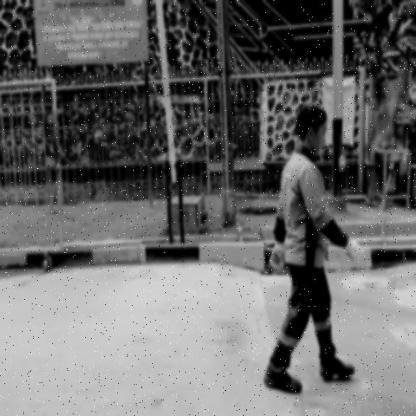boots: (260, 366, 308, 398), (317, 350, 357, 388)
gloves: (342, 236, 368, 270), (265, 238, 287, 274)
